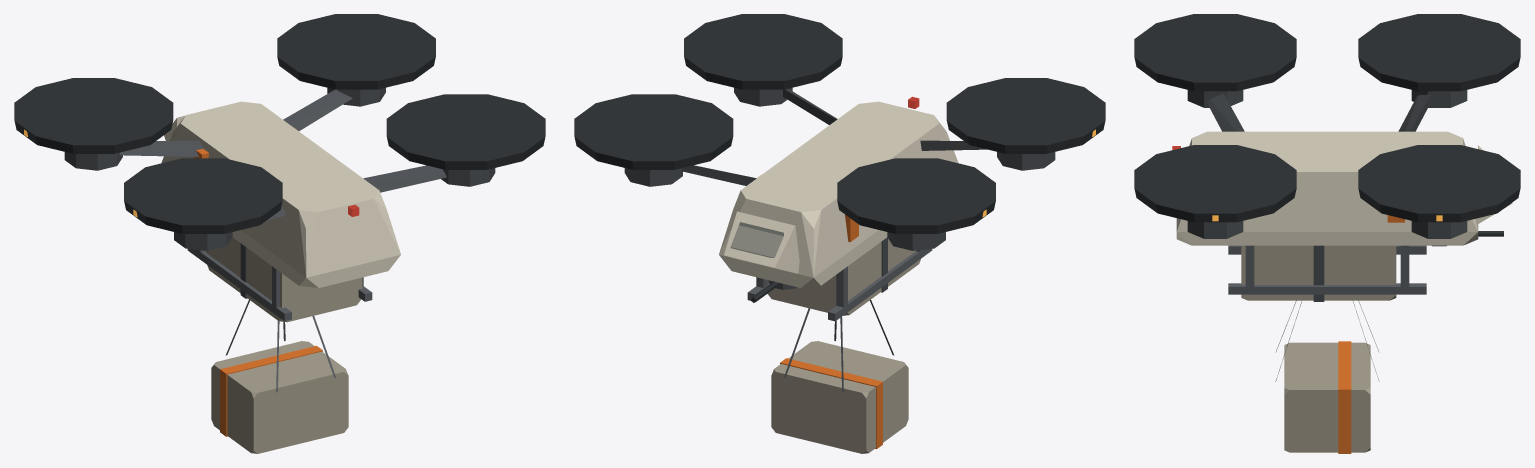
Rendered from hum_air_lifter.glb.
3 views of the same model, side by side, from view 1: azimuth 30°, elevation 25°; view 2: azimuth 150°, elevation 25°; view 3: azimuth 270°, elevation 25° (orthographic). The views are drawn at different scales.
Visible parts, largest first — view 1: frame, sling, pod; view 2: frame, sling, pod; view 3: frame, sling, pod.
Boxes of the visible parts, <box> form: frame: <box>14,14,545,321</box>; sling: <box>211,299,348,453</box>; pod: <box>206,237,362,322</box>; frame: <box>574,14,1105,321</box>; sling: <box>771,299,908,453</box>; pod: <box>767,237,920,315</box>; frame: <box>1134,14,1520,294</box>; sling: <box>1275,300,1379,453</box>; pod: <box>1241,245,1396,301</box>.
Bounding box in the file's own units: 10.97 × 8.1 × 8.97.
3 materials, 3 textured.
